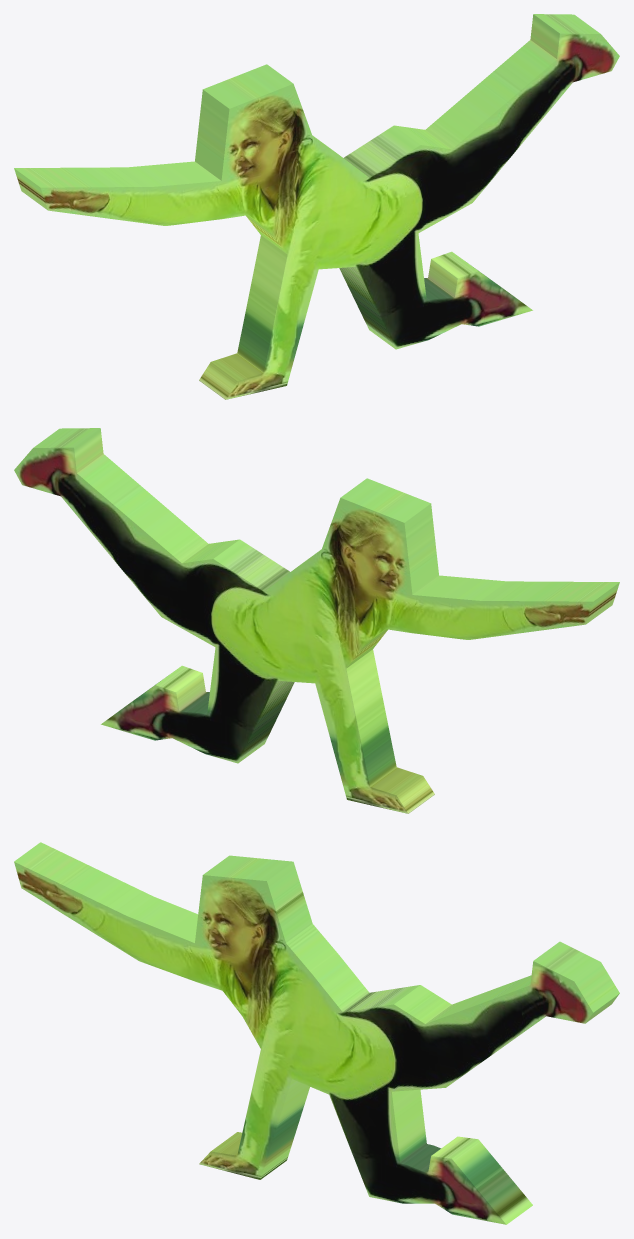
The model's file is Yoga.glb.
3 renders of one model, top to bottom at view 1: azimuth 30°, elevation 25°; view 2: azimuth 150°, elevation 25°; view 3: azimuth 330°, elevation 25°, orthographic.
Visible parts, largest first — view 1: Cube.002; view 2: Cube.002; view 3: Cube.002.
Part boxes in pixels (x1,y1,x2,y2): Cube.002: (14,14,619,399); Cube.002: (14,428,619,813); Cube.002: (14,842,619,1224).
Bounding box in the file's own units: 4.57 × 2.27 × 0.3647.
Materials: 1 (1 with a texture image).
